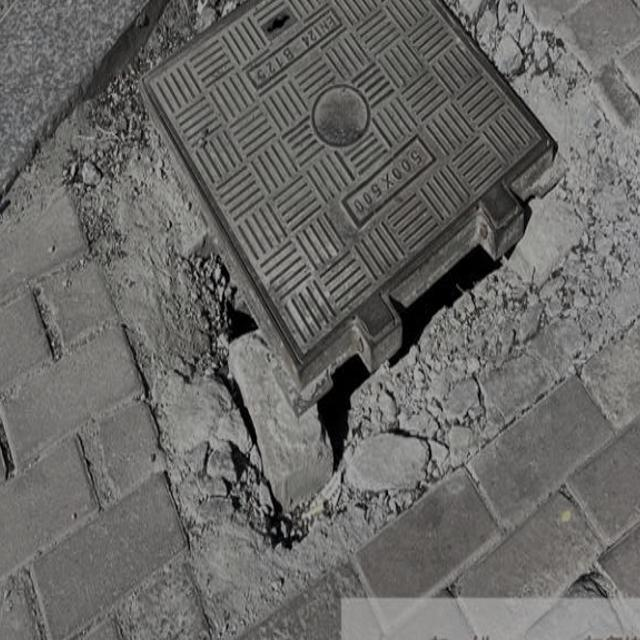circle: (67, 0, 640, 564)
